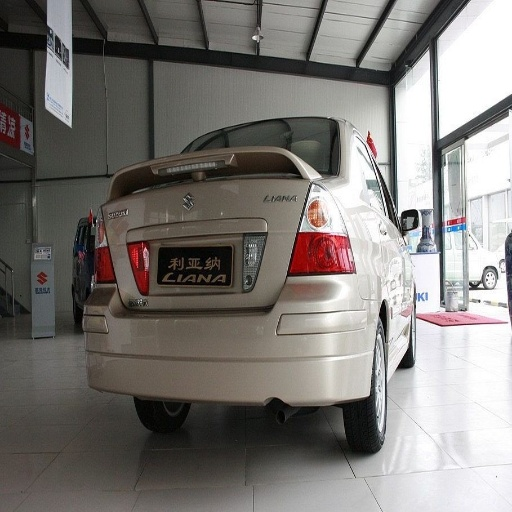back_bumper: (83, 274, 376, 405)
